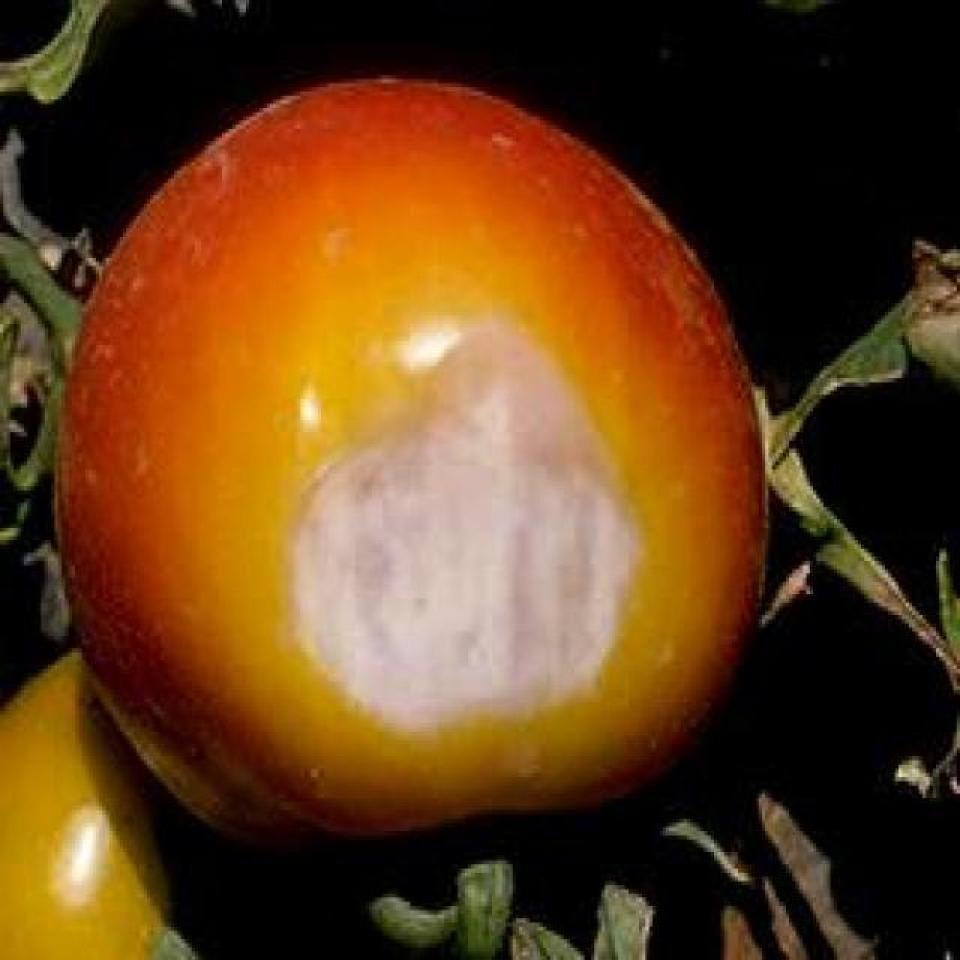Sunscald: (208, 274, 674, 756)
